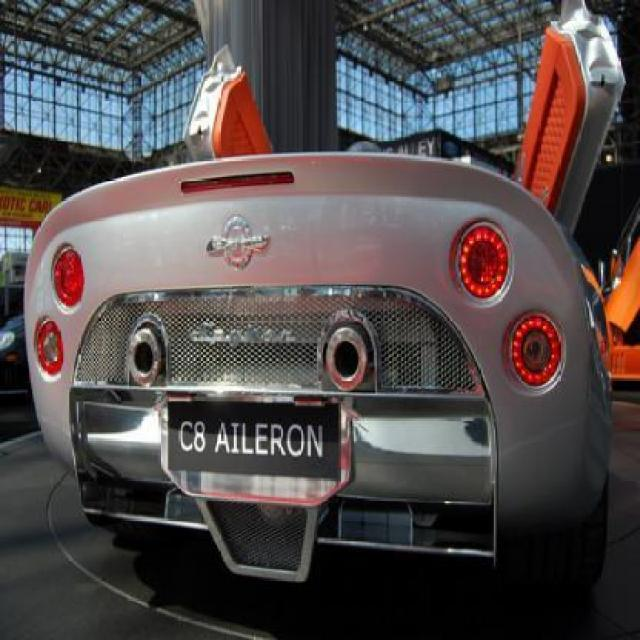vehicle: (20, 34, 625, 638), (15, 177, 18, 180)
